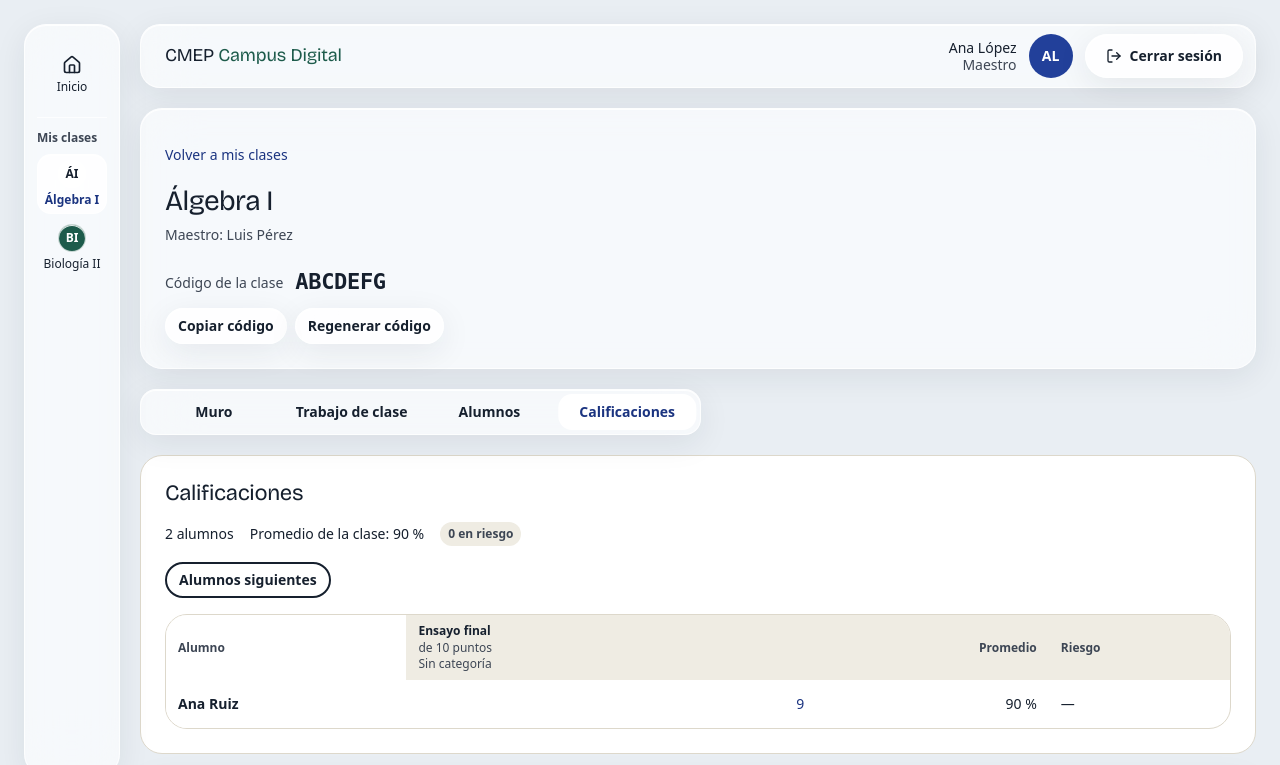
Cambio de clase con el gradebook montado (alcance del manager: no alcanzable) › CAL-T-231: desde Calificaciones de la clase A, la clase B de la barra lleva a la raíz de B (el muro): el gradebook se desmonta y nunca se pide el de B ni con el
Click the button "Alumnos siguientes": click(248, 580) [165,562,331,598]
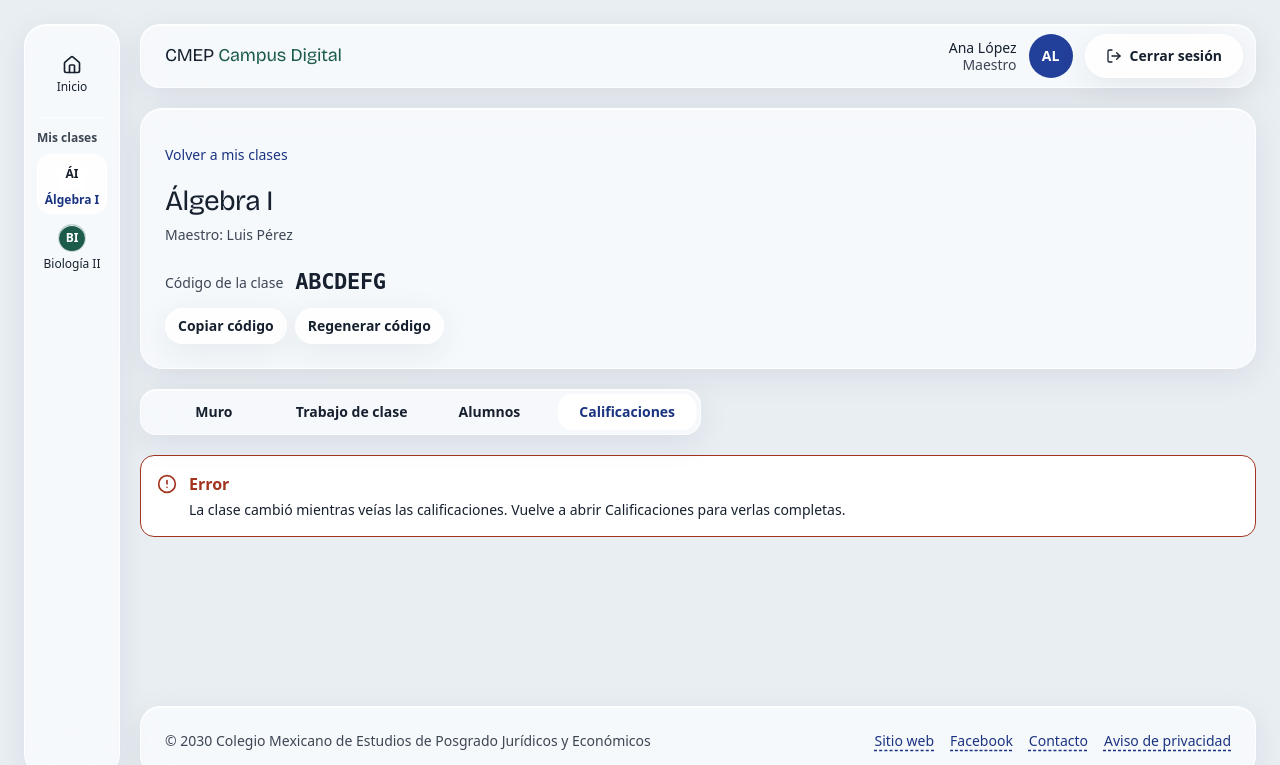
Now the text "La clase cambió mientras veías las calificaciones. Vuelve a abrir Calificaciones para verlas completas." is shown, box [189,500,845,519]
Click the link "BI Biología II": click(72, 248) [44,224,100,272]
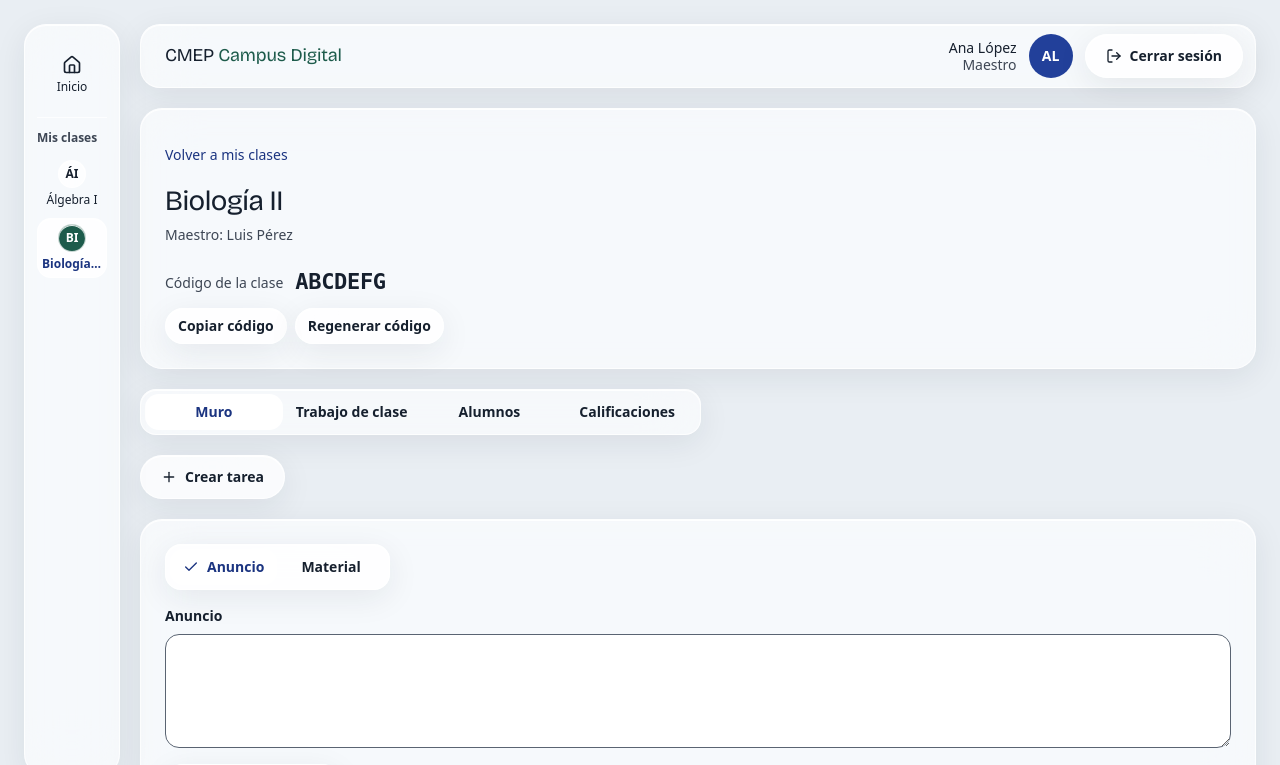
Now the text "La clase cambió mientras veías las calificaciones. Vuelve a abrir Calificaciones para verlas completas." is gone
